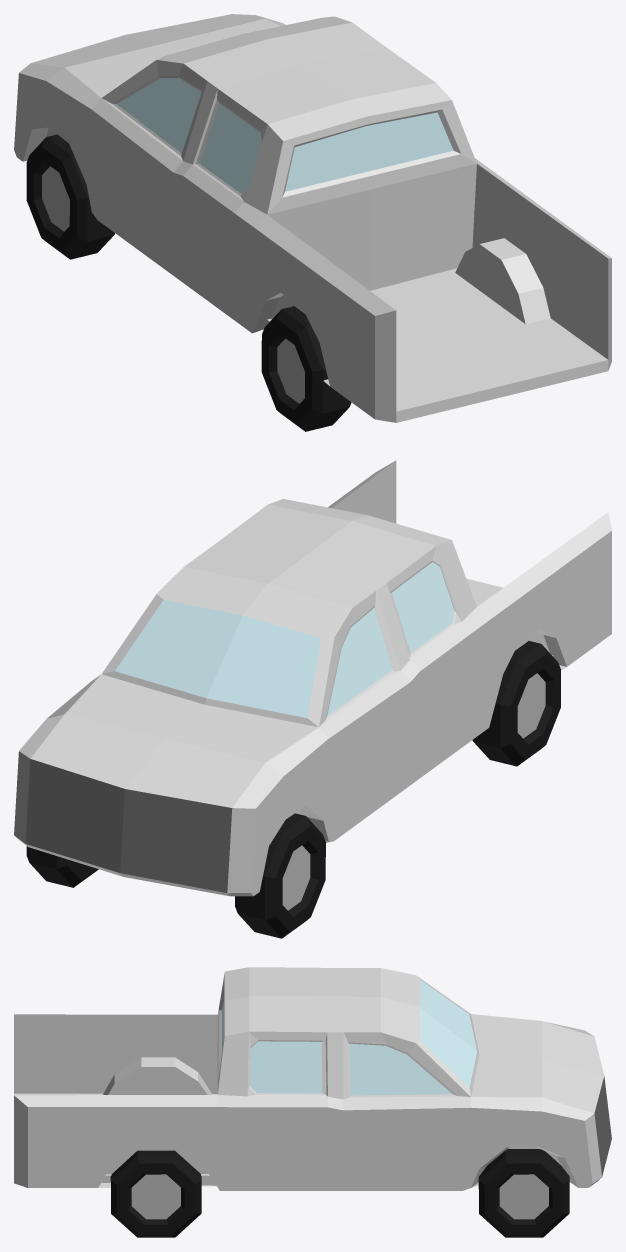
The model's file is Jeep.fbx.
3 views of the same model, one above another, from view 1: azimuth 30°, elevation 25°; view 2: azimuth 150°, elevation 25°; view 3: azimuth 270°, elevation 25° (orthographic). The views are drawn at different scales.
Parts seen in each view (by area): view 1: Cylinder.001; view 2: Cylinder.001; view 3: Cylinder.001.
Boxes of the visible parts, x1,y1,x2,y2 form: Cylinder.001: [14, 14, 611, 431]; Cylinder.001: [14, 460, 611, 938]; Cylinder.001: [14, 967, 611, 1237].
Bounding box in the file's own units: 82.82 × 220 × 80.01.
Materials: 1 (1 with a texture image).
